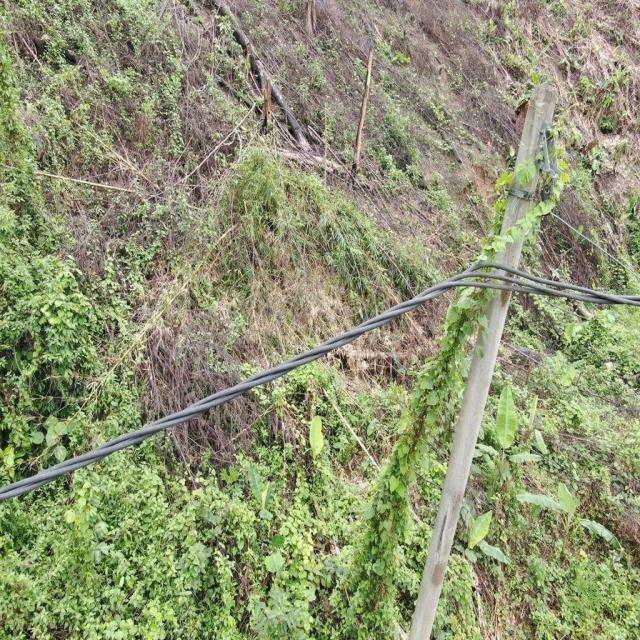light_pole: (342, 139, 575, 594)
